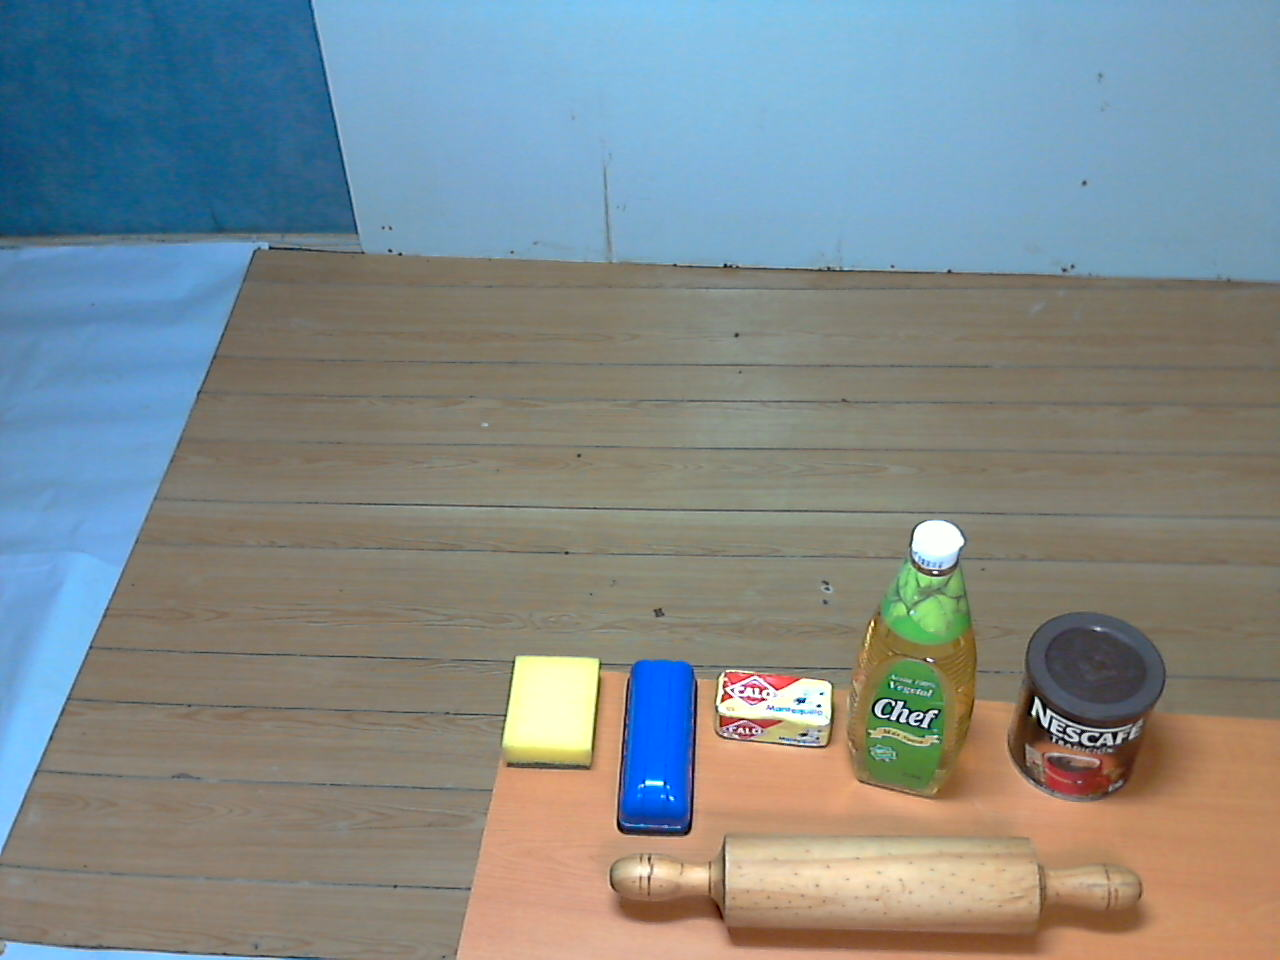aceite: (839, 511, 985, 809)
borrador: (605, 654, 705, 848)
cafe: (1001, 607, 1179, 809)
esponja: (492, 636, 608, 776)
mantequilla: (703, 657, 839, 759)
uslero: (601, 819, 1161, 948)
